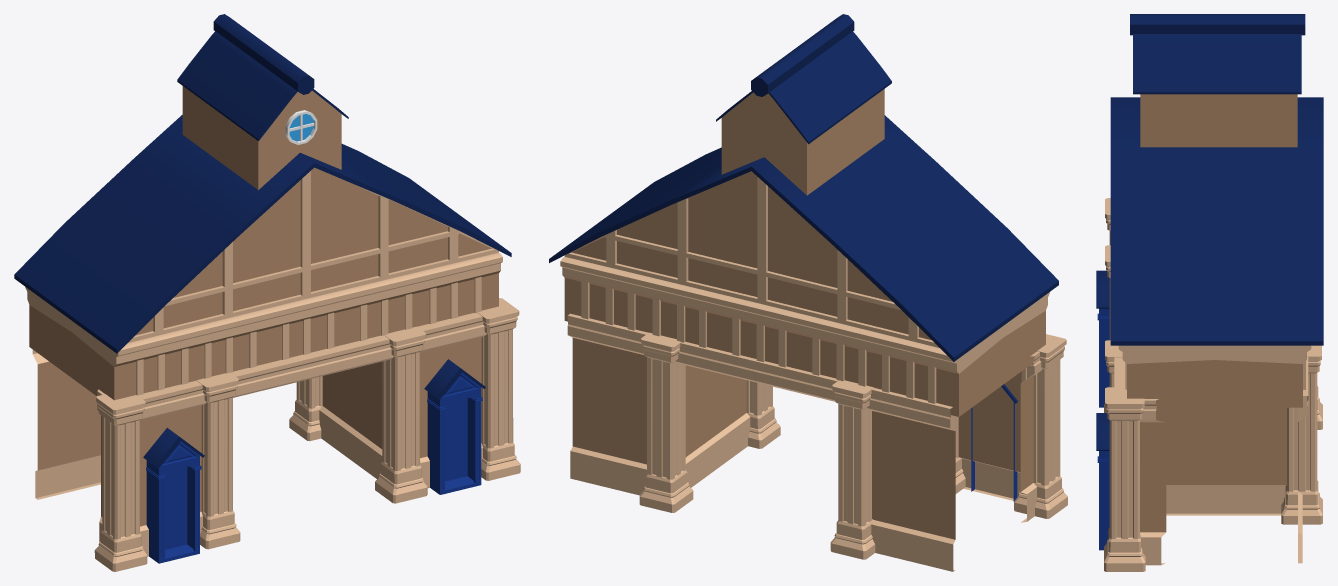
File: 1 6TestUv.fbx
3 renders of one model, left to right at view 1: azimuth 30°, elevation 25°; view 2: azimuth 150°, elevation 25°; view 3: azimuth 270°, elevation 25°, orthographic. The views are drawn at different scales.
Parts seen in each view (by area): view 1: Object006; view 2: Object006; view 3: Object006.
Boxes of the visible parts, box(x1,y1,x2,y2) form: Object006: box(14, 14, 520, 571); Object006: box(549, 14, 1067, 571); Object006: box(1096, 14, 1323, 571).
Size of the model in its own units: 11.33 by 11.59 by 5.27.
